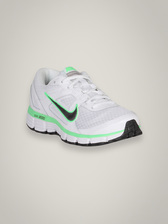shoes: (22, 62, 147, 143)
